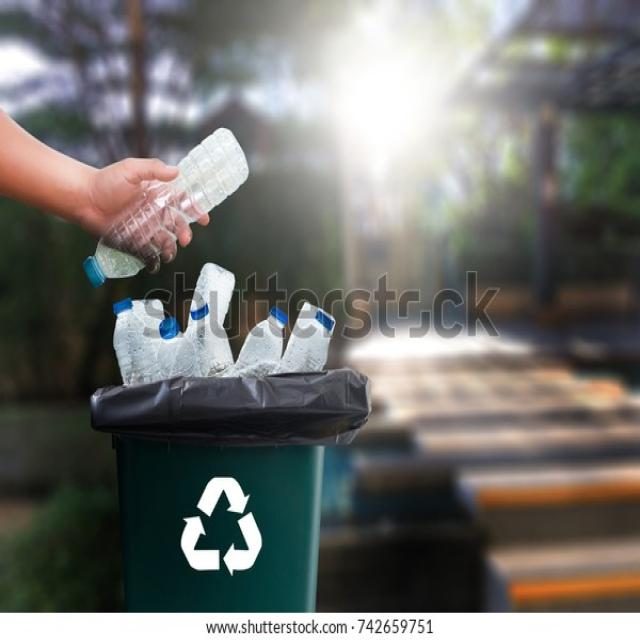plastic: (137, 290, 318, 373)
